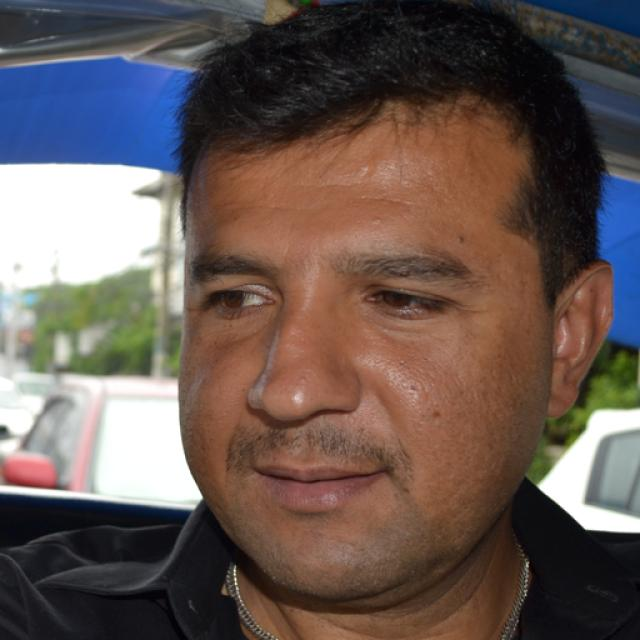Acne: (366, 217, 384, 228)
